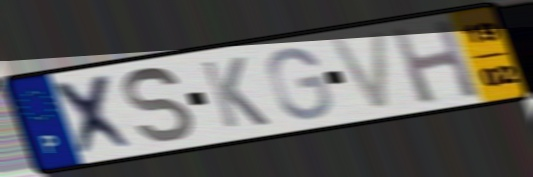G: (264, 45, 336, 122)
H: (386, 16, 485, 106)
K: (196, 54, 273, 132)
S: (121, 65, 197, 145)
V: (324, 27, 395, 114)
X: (48, 70, 142, 159)
